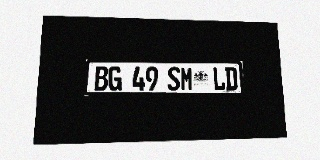4: (132, 66, 145, 91)
9: (146, 66, 158, 91)
B: (94, 66, 108, 91)
D: (225, 67, 238, 90)
G: (108, 66, 122, 91)
L: (212, 67, 225, 90)
M: (180, 67, 193, 91)
S: (167, 67, 180, 91)
